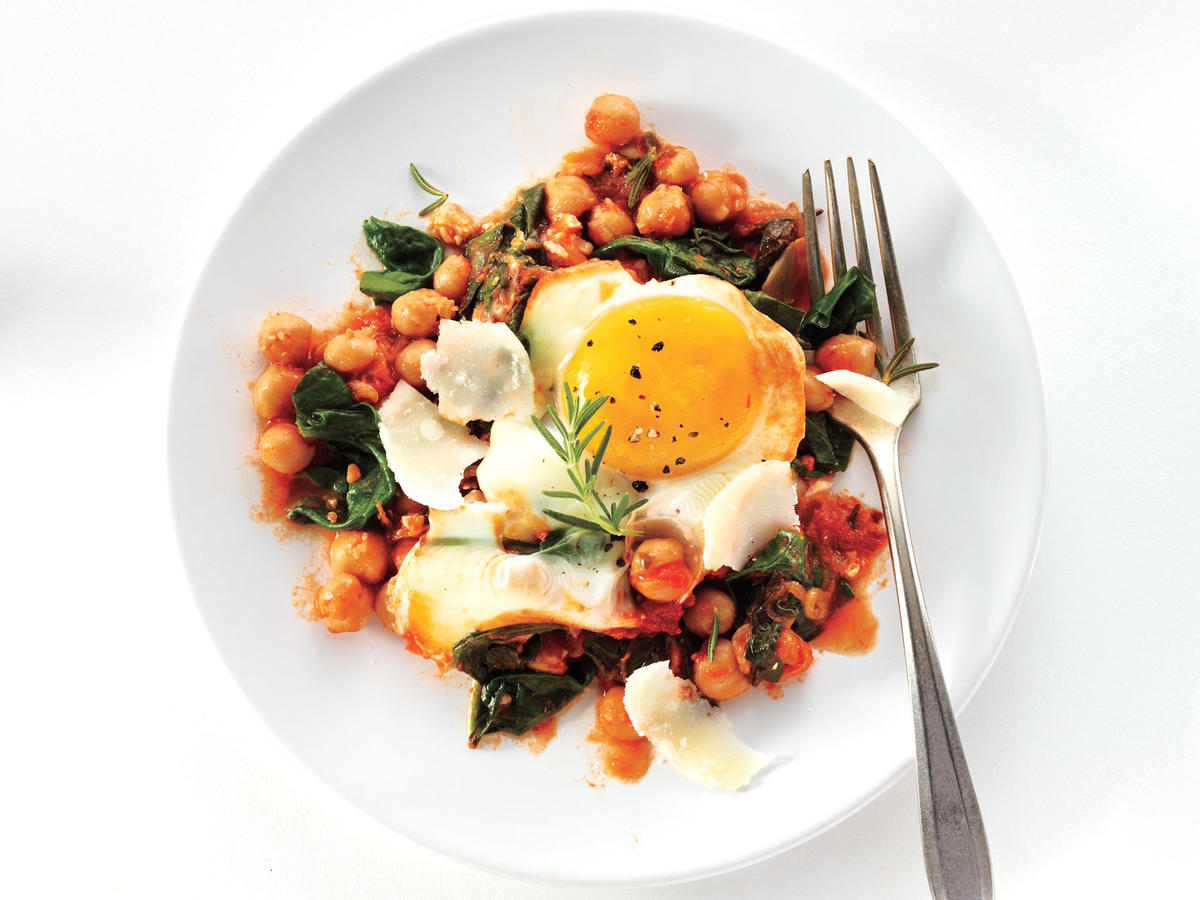fried egg: (417, 322, 793, 547)
